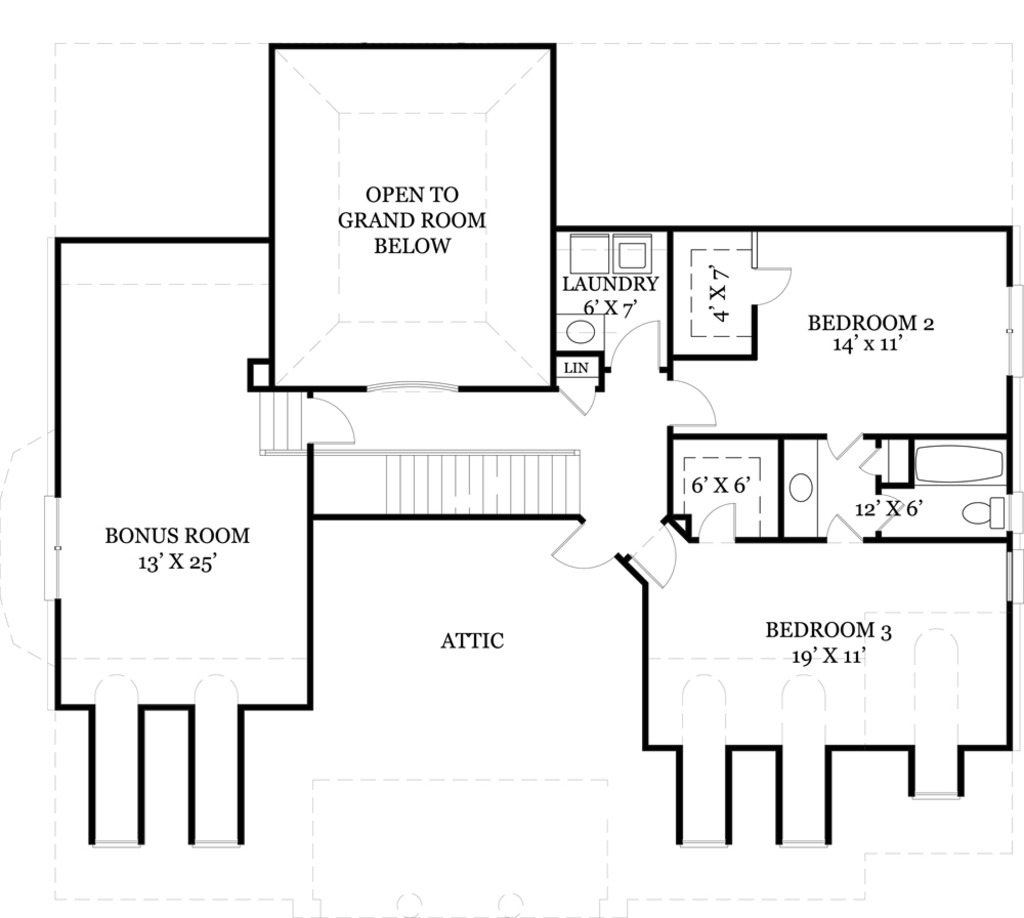door: (540, 523, 619, 574), (626, 520, 684, 587), (606, 310, 663, 374), (665, 373, 722, 428), (691, 496, 748, 543), (302, 395, 352, 442), (553, 370, 600, 420), (755, 268, 804, 306), (825, 427, 866, 463), (877, 492, 908, 528), (827, 514, 858, 541), (861, 446, 887, 474)
large_sink: (954, 487, 1011, 535)
small_sink: (777, 431, 825, 543)
stairs: (312, 446, 593, 520)
tub: (916, 439, 1004, 488)
window: (43, 495, 62, 599), (1002, 543, 1022, 602), (93, 834, 140, 850), (197, 832, 234, 852), (911, 789, 965, 799), (688, 834, 725, 848), (786, 837, 827, 846)
